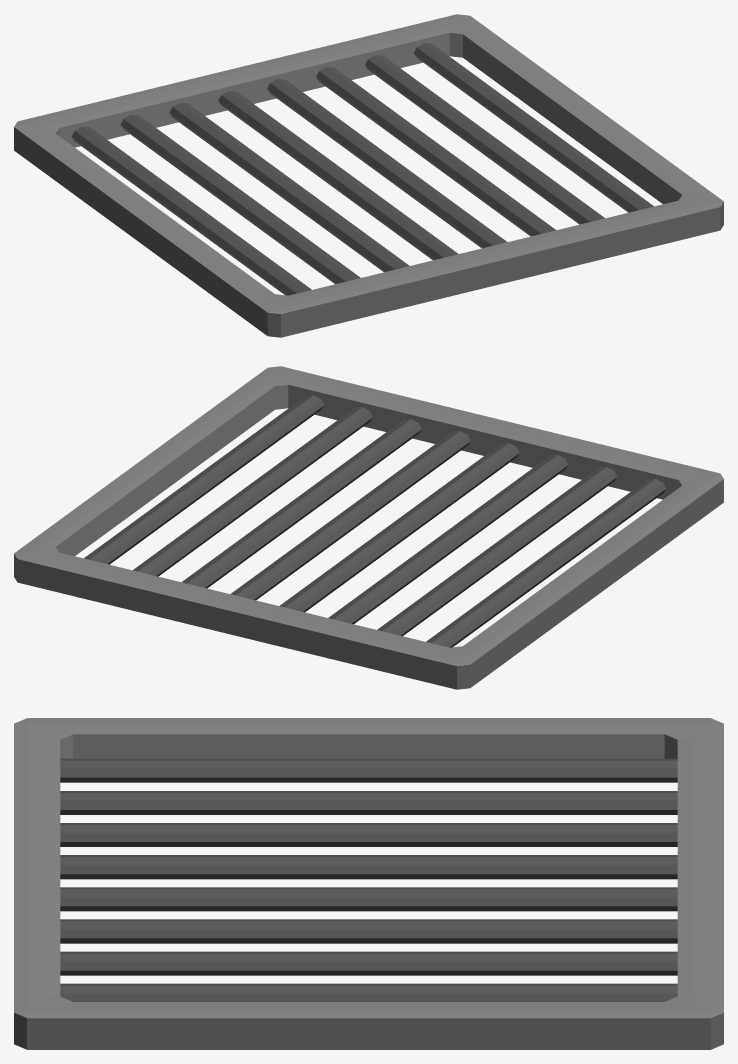
Rendered from grid_type_01.fbx.
3 renders of one model, top to bottom at view 1: azimuth 30°, elevation 25°; view 2: azimuth 150°, elevation 25°; view 3: azimuth 270°, elevation 25°, orthographic. The views are drawn at different scales.
Visible parts, largest first — view 1: grid_type_01; view 2: grid_type_01; view 3: grid_type_01.
Part boxes in pixels (x1=…): grid_type_01: x1=14, y1=14, x2=723, y2=337; grid_type_01: x1=14, y1=366, x2=723, y2=689; grid_type_01: x1=14, y1=718, x2=723, y2=1049.
Bounding box in the file's own units: 203 × 10.35 × 203.
